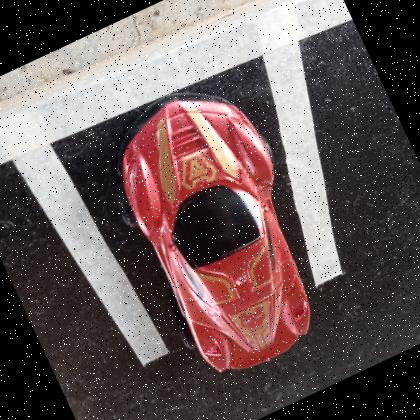Car: (118, 93, 310, 371)
